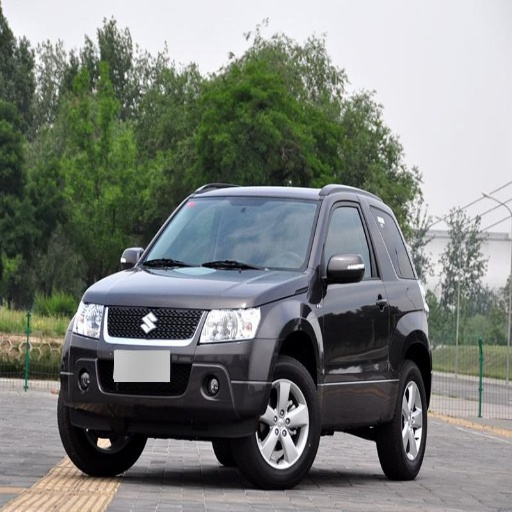front_bumper: (62, 304, 277, 434)
front_glass: (135, 197, 320, 271)
front_left_door: (322, 195, 385, 413)
